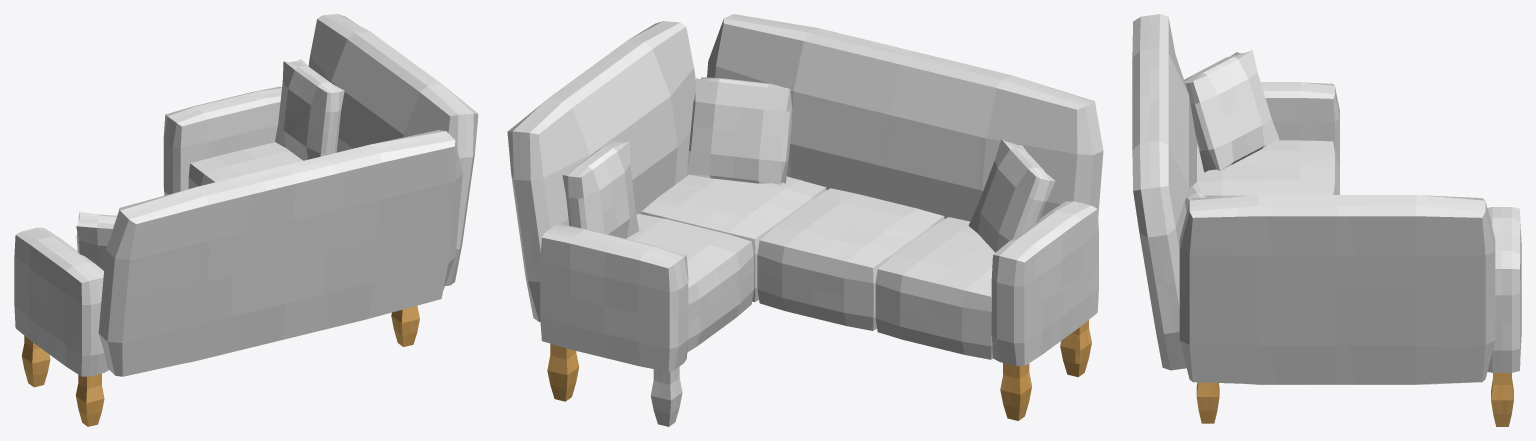
File: simple_corner_2_sofa.obj
3 views of the same model, side by side, from view 1: azimuth 30°, elevation 25°; view 2: azimuth 150°, elevation 25°; view 3: azimuth 270°, elevation 25° (orthographic). The views are drawn at different scales.
Parts seen in each view (by area): view 1: Cube.002; view 2: Cube.002; view 3: Cube.002.
Part boxes in pixels (x1=…): Cube.002: x1=14, y1=14, x2=478, y2=426; Cube.002: x1=507, y1=14, x2=1103, y2=426; Cube.002: x1=1132, y1=14, x2=1521, y2=426.
Size of the model in its own units: 7.7 by 4.23 by 5.97.
